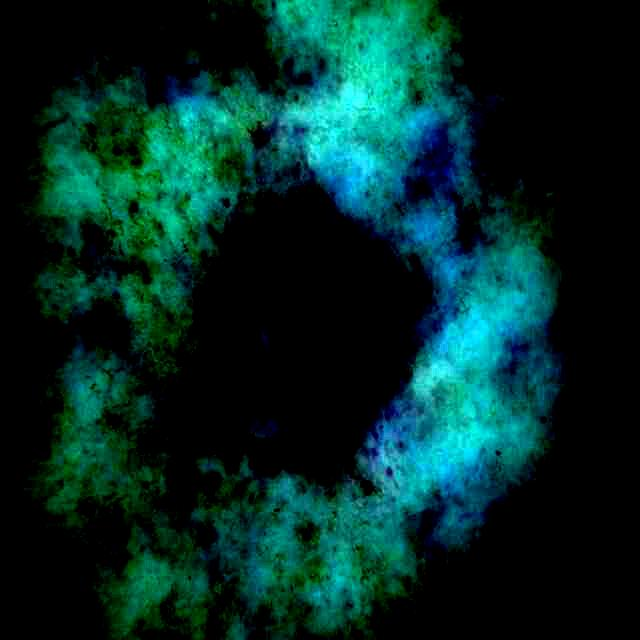VASC: (262, 256, 368, 388)
